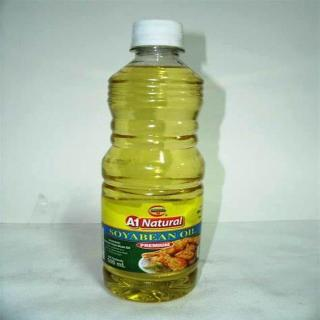Plastic-bottle: (98, 15, 222, 303)
